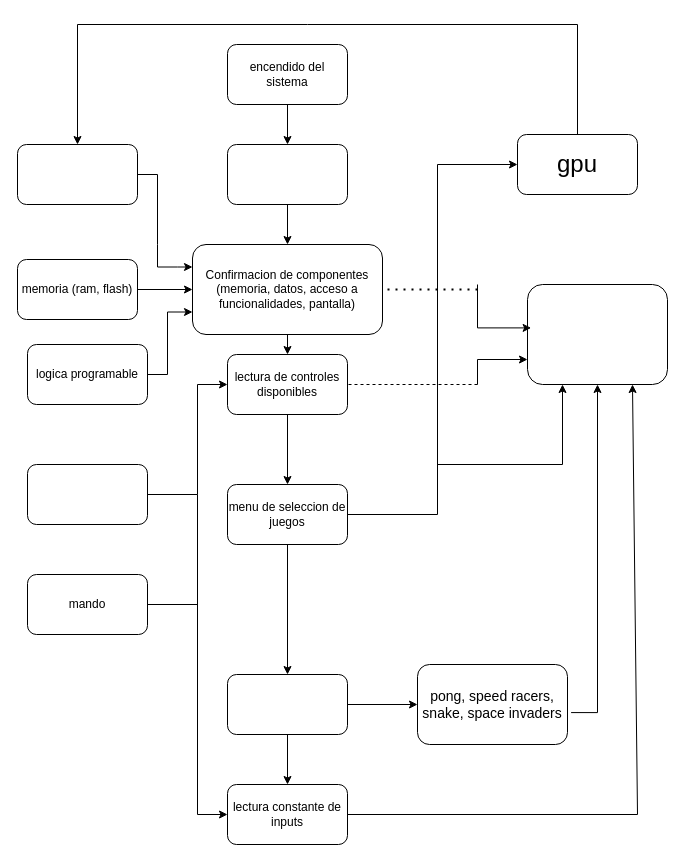
This 685x862 diagram has some shape labels left out. Here are the shapes that lost their labels. From the top down, the centre of each, then its label:
the point at 77,174: display
the point at 287,174: Arranque
the point at 597,334: cpu
the point at 87,494: teclado y mouse
the point at 287,704: arranque de juego seleccionado
